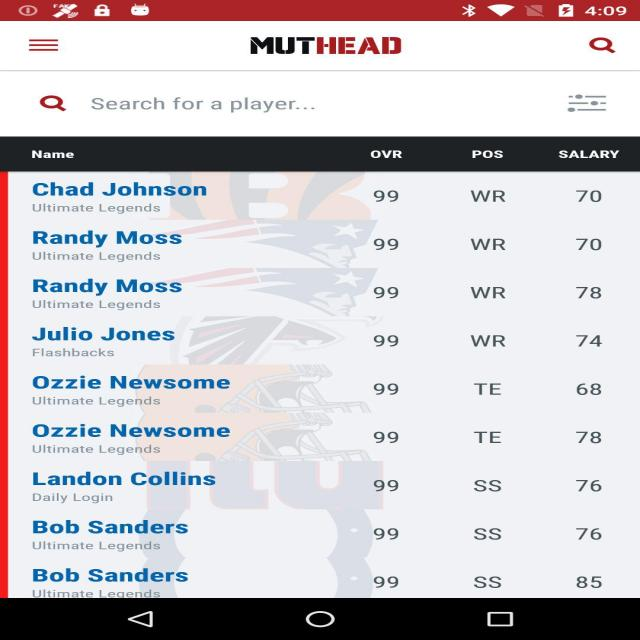button: (18, 80, 619, 128), (564, 25, 640, 68), (18, 30, 80, 64)
icon: (227, 28, 427, 64)
text: (14, 177, 638, 596)
